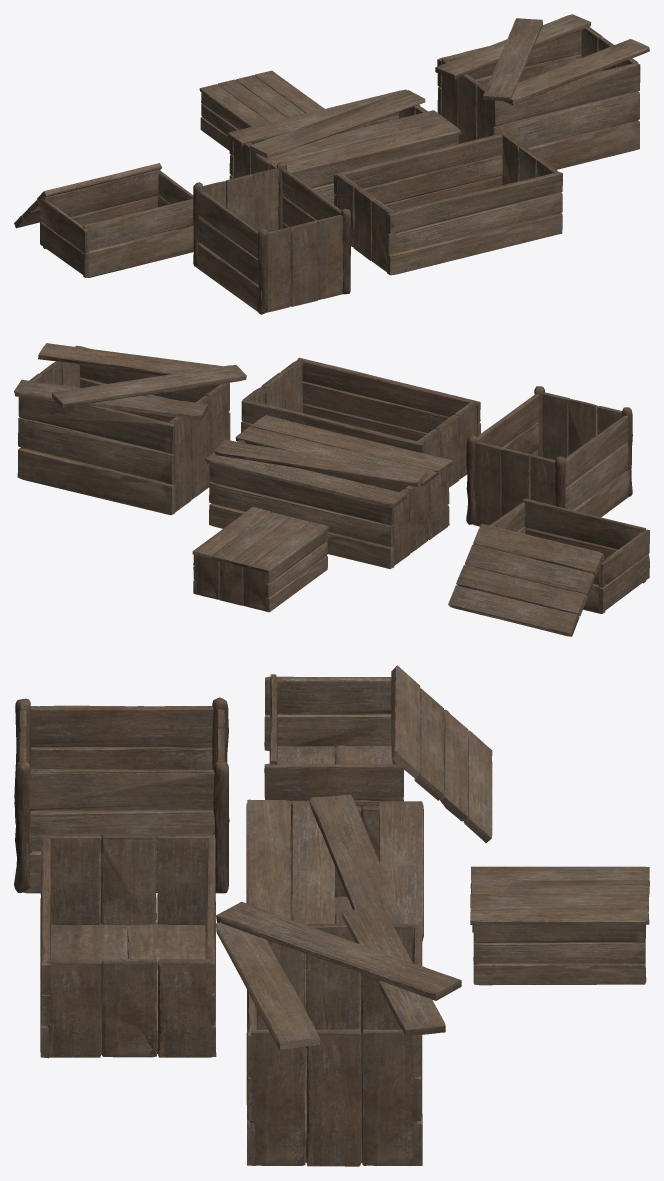
Rendered from Crates_A1.fbx.
3 renders of one model, top to bottom at view 1: azimuth 30°, elevation 25°; view 2: azimuth 150°, elevation 25°; view 3: azimuth 270°, elevation 25°, orthographic. The views are drawn at different scales.
Visible parts, largest first — view 1: Crate_A2, Crate_A3, Crate_A6, Crate_A5, Crate_A1, Crate_A3.001, Crate_A1.001, Crate_A6.001, Crate_A2.001, Crate_A5.001, Crate_A4, Crate_A3.002 (+6 smaller); view 2: Crate_A2, Crate_A1, Crate_A6, Crate_A5, Crate_A3, Crate_A1.001, Crate_A5.001, Crate_A4, Crate_A2.001, Crate_A3.001, Crate_A6.001, Crate_A4.001 (+6 smaller); view 3: Crate_A2, Crate_A3, Crate_A6, Crate_A5, Crate_A4, Crate_A2.001, Crate_A3.001, Crate_A1, Crate_A1.001, Crate_A6.001, Crate_A5.001, Crate_A4.001 (+6 smaller).
Boxes of the visible parts, x1,y1,x2,y2 form: Crate_A2: [435, 14, 649, 168]; Crate_A3: [333, 133, 562, 275]; Crate_A6: [193, 162, 350, 314]; Crate_A5: [14, 163, 193, 277]; Crate_A1: [227, 90, 460, 203]; Crate_A3.001: [334, 133, 562, 274]; Crate_A1.001: [229, 90, 460, 204]; Crate_A6.001: [193, 162, 350, 314]; Crate_A2.001: [436, 14, 648, 161]; Crate_A5.001: [16, 163, 193, 277]; Crate_A4: [199, 71, 324, 150]; Crate_A3.002: [334, 132, 562, 275]; Crate_A2: [14, 343, 246, 515]; Crate_A1: [205, 416, 452, 568]; Crate_A6: [466, 386, 632, 524]; Crate_A5: [449, 499, 649, 636]; Crate_A3: [241, 359, 480, 484]; Crate_A1.001: [207, 415, 450, 567]; Crate_A5.001: [448, 498, 649, 636]; Crate_A4: [193, 507, 328, 611]; Crate_A2.001: [14, 343, 246, 514]; Crate_A3.001: [241, 358, 480, 487]; Crate_A6.001: [466, 386, 632, 525]; Crate_A4.001: [192, 511, 327, 612]; Crate_A2: [216, 903, 461, 1166]; Crate_A3: [40, 834, 216, 1057]; Crate_A6: [14, 698, 229, 893]; Crate_A5: [264, 666, 492, 840]; Crate_A4: [470, 866, 649, 984]; Crate_A2.001: [216, 901, 461, 1166]; Crate_A3.001: [40, 834, 216, 1057]; Crate_A1: [246, 795, 423, 1014]; Crate_A1.001: [246, 794, 423, 1010]; Crate_A6.001: [14, 698, 229, 893]; Crate_A5.001: [264, 666, 491, 840]; Crate_A4.001: [470, 866, 649, 984].
Bounding box in the file's own units: 511 × 82.44 × 318.
